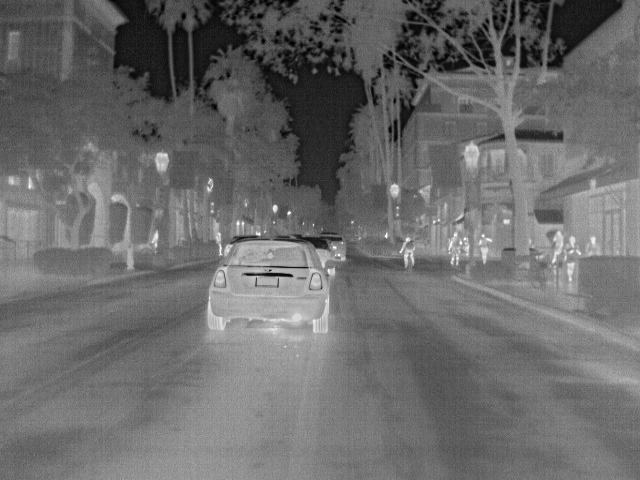car: (205, 237, 333, 338), (302, 236, 335, 282), (316, 232, 349, 264)
person: (562, 236, 582, 287), (448, 230, 467, 266), (475, 233, 495, 267), (398, 237, 418, 270), (550, 228, 565, 264), (586, 233, 605, 259), (212, 231, 224, 255)
